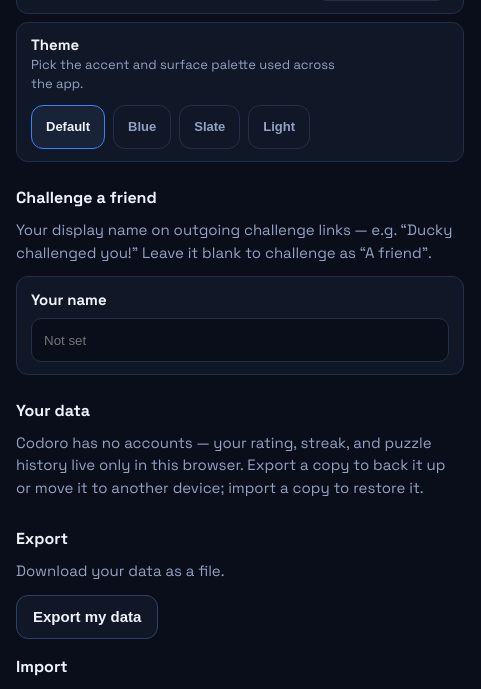
Test: SettingsPage › Challenge a friend (challenge redesign) — challengerName is editable here, not set-once › Enter commits the same as blur
(page scrolled)
Step 1. Type "Sam" into the field labelled "Your name" → (240, 340), box top-left (31, 318), bottom-right (449, 362)
Then press Enter
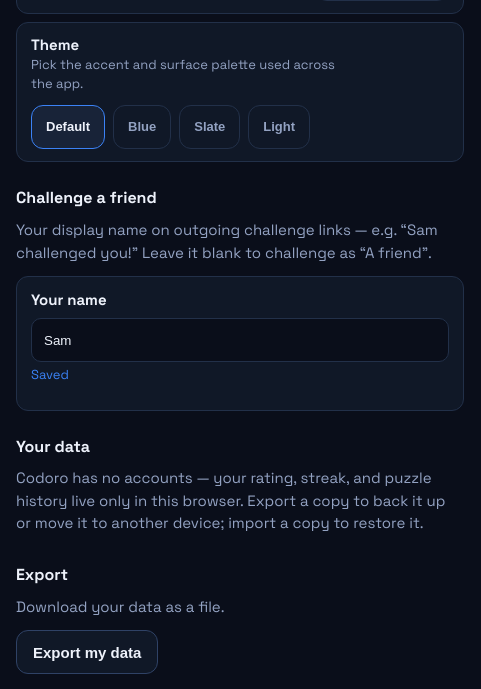
Expected: the message reads "Saved", top-left (31, 366), bottom-right (69, 383)
